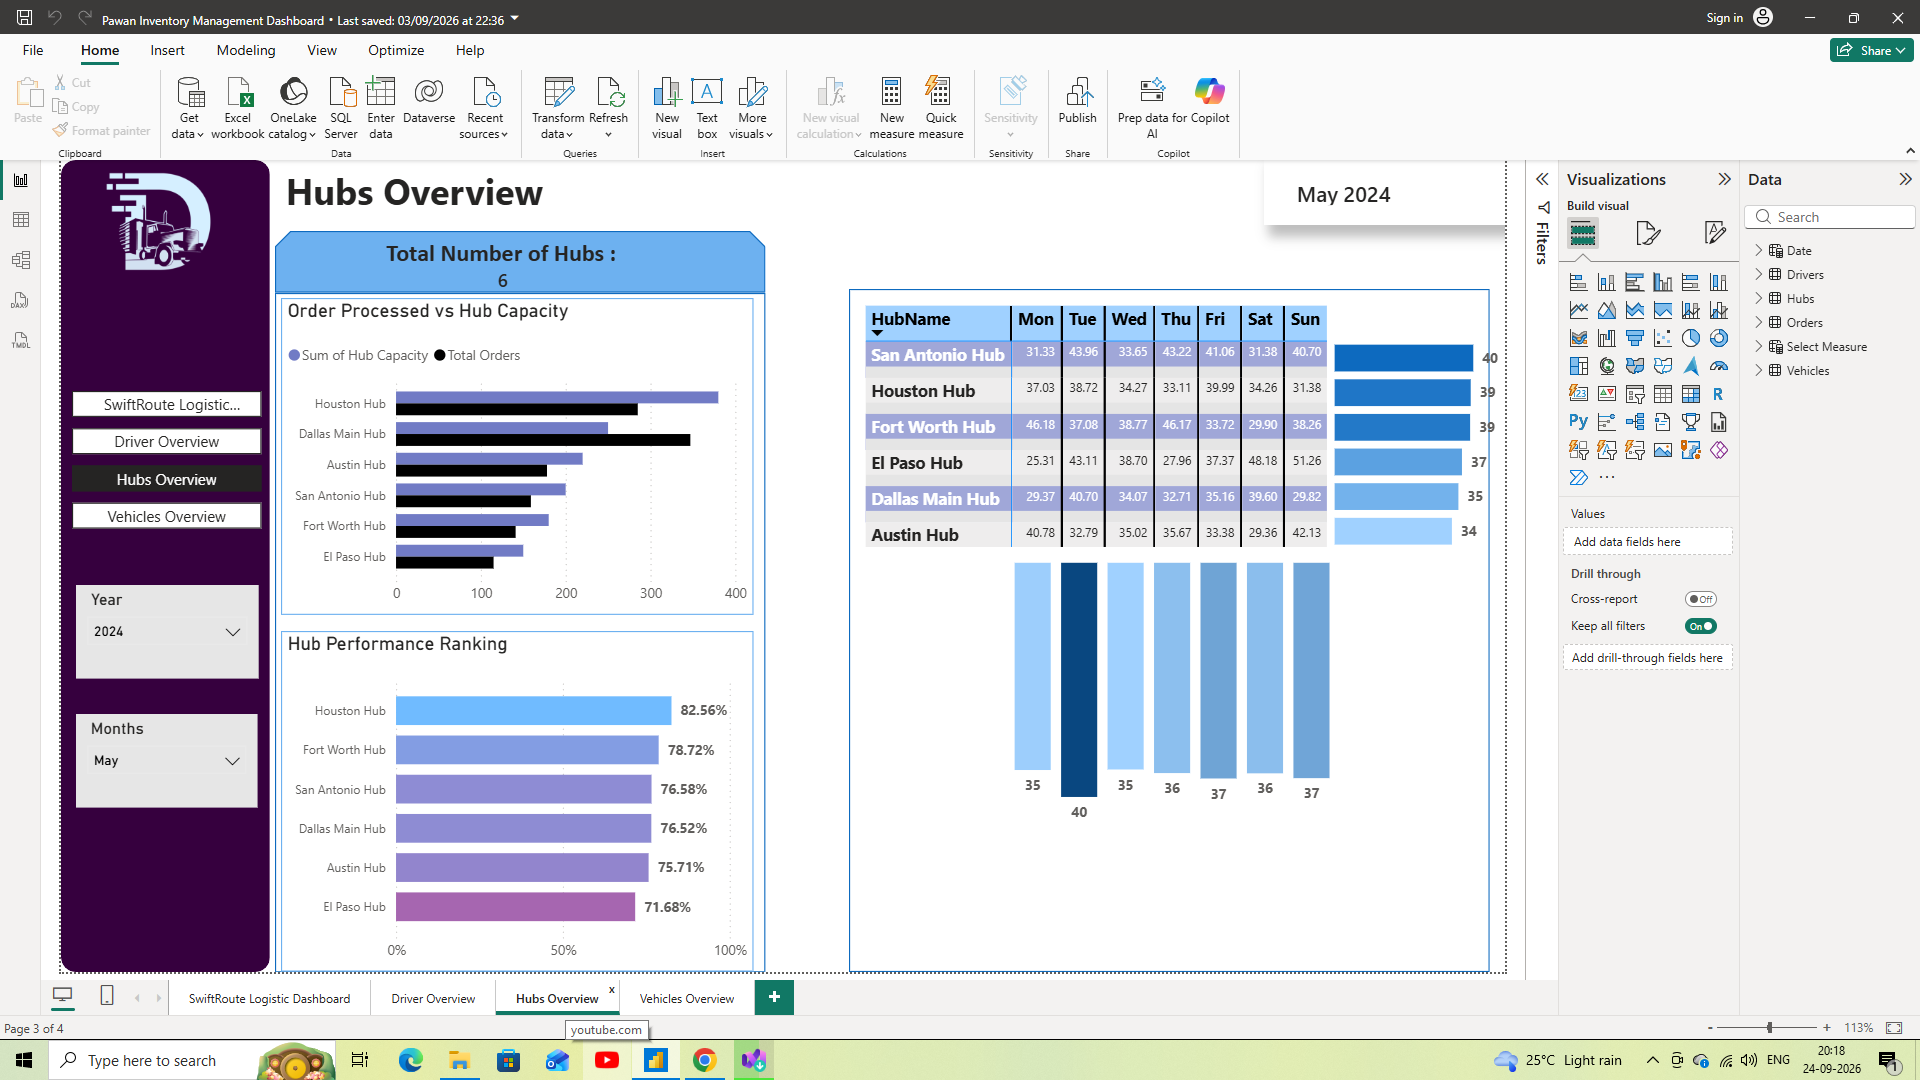

The page's visual inventory and layout, read from the dashboard file:
{"tool":"powerbi","page":{"name":"Hubs Overview","canvas":[1280,720],"ordinal":2},"visuals":[{"type":"textbox","box":[193.9,0,533.6,60.2],"z":0},{"type":"cardVisual","fields":{"Data":["Date.Year Month Title"]},"box":[1066.3,0,213.7,58],"z":1000},{"type":"shape","box":[0,0,185.3,720],"z":2000},{"type":"slicer","fields":{"Values":["Date.Year"]},"box":[13.2,376.5,161.9,82.8],"z":3000},{"type":"slicer","fields":{"Values":["Date.Months"]},"box":[13.2,491.3,161.5,82.7],"z":4000},{"type":"image","box":[0,1.9,175.1,112.9],"z":5000},{"type":"shape","box":[699.1,114.4,568.1,605.6],"z":6000},{"type":"shape","box":[190.1,117.6,434.8,602.4],"z":7000},{"type":"shape","box":[190.1,63.1,434.8,54.6],"z":8000},{"type":"textbox","box":[263.5,64.9,254.1,37.6],"z":9000},{"type":"cardVisual","fields":{"Data":["CountNonNull(Hubs.Hub ID)"]},"box":[358.6,80.9,89.4,49.9],"z":10000},{"type":"clusteredBarChart","title":"Order Processed vs Hub Capacity","fields":{"Category":["Hubs.HubName"],"Y":["Sum(Hubs.Hub Capacity)","Orders.Total Orders"]},"box":[194.8,122.4,418.8,281.4],"z":11000},{"type":"barChart","title":"Hub Performance Ranking","fields":{"Category":["Hubs.HubName"],"Y":["Date.On Time Delivery Rate %"]},"box":[194.8,417.9,418.8,302.1],"z":12000},{"type":"pivotTable","fields":{"Rows":["Hubs.HubName"],"Columns":["Date.Day"],"Values":["Orders.AVG Delivery Time"]},"box":[708.4,124.5,424.5,235.5],"z":13000},{"type":"columnChart","fields":{"Category":["Date.Day"],"Y":["Orders.AVG Delivery Time"]},"box":[840.9,343,290.1,251.6],"z":14000},{"type":"barChart","fields":{"Category":["Hubs.HubName"],"Y":["Orders.AVG Delivery Time"]},"box":[1124.8,150.4,154.9,196.1],"z":15000},{"type":"pageNavigator","box":[9.9,205.1,168.4,123.6],"z":16000}]}

Visuals, with their boxes on the page's 1280x720 design canvas (x1, y1, x2, y2). These are canvas units, not pixel positions in the 1920x1080 screenshot, which may show the page scaled, cropped or inside an application window:
textbox: left=194, top=0, right=728, bottom=60
cardVisual - Date.Year Month Title: left=1066, top=0, right=1280, bottom=58
shape: left=0, top=0, right=185, bottom=720
slicer - Date.Year: left=13, top=376, right=175, bottom=459
slicer - Date.Months: left=13, top=491, right=175, bottom=574
image: left=0, top=2, right=175, bottom=115
shape: left=699, top=114, right=1267, bottom=720
shape: left=190, top=118, right=625, bottom=720
shape: left=190, top=63, right=625, bottom=118
textbox: left=264, top=65, right=518, bottom=102
cardVisual - CountNonNull(Hubs.Hub ID): left=359, top=81, right=448, bottom=131
"Order Processed vs Hub Capacity" clusteredBarChart: left=195, top=122, right=614, bottom=404
"Hub Performance Ranking" barChart: left=195, top=418, right=614, bottom=720
pivotTable - Hubs.HubName x Date.Day: left=708, top=124, right=1133, bottom=360
columnChart - Date.Day x Orders.AVG Delivery Time: left=841, top=343, right=1131, bottom=595
barChart - Hubs.HubName x Orders.AVG Delivery Time: left=1125, top=150, right=1280, bottom=346
pageNavigator: left=10, top=205, right=178, bottom=329
